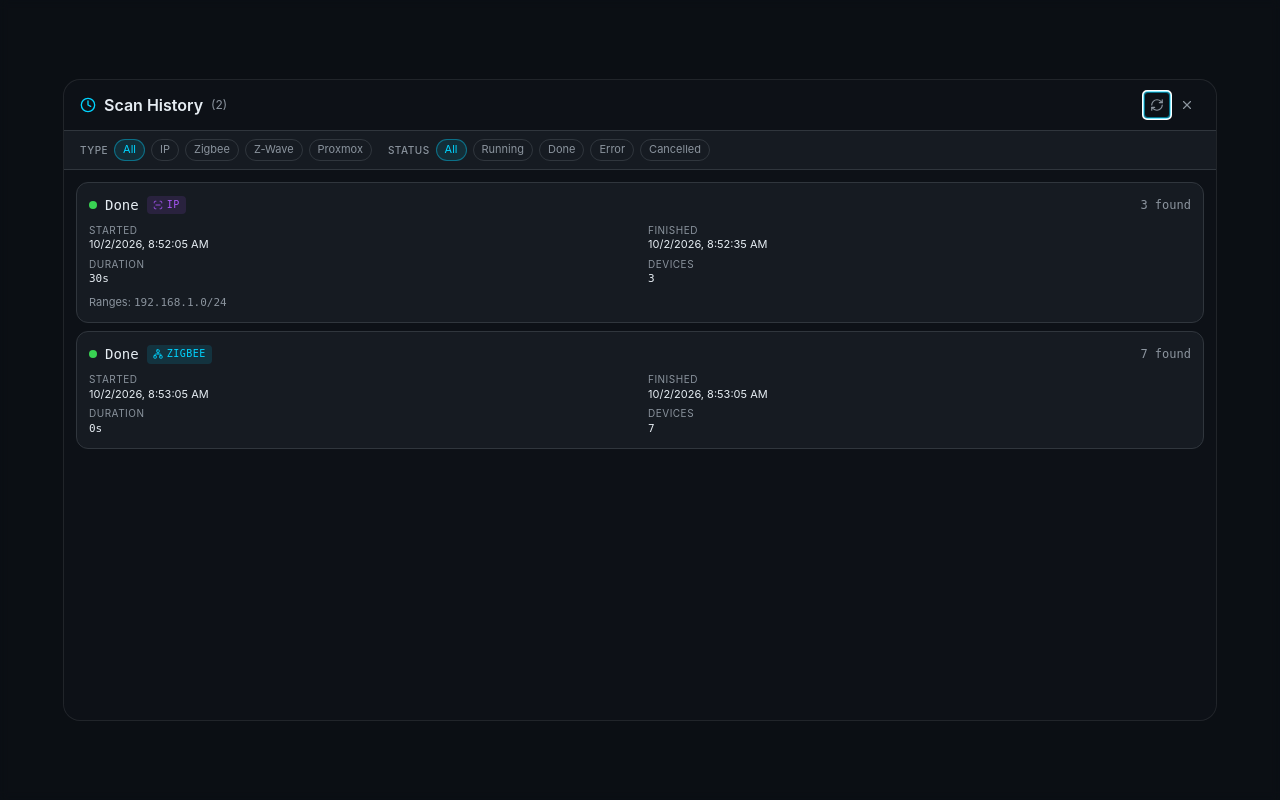
Test: ScanHistoryModal › filters by kind
Expected: the text "done" is shown 2 times, [105,195,139,215]; [105,344,139,364]
Click the button "Zigbee".
click(212, 150)  # box [185,139,239,161]
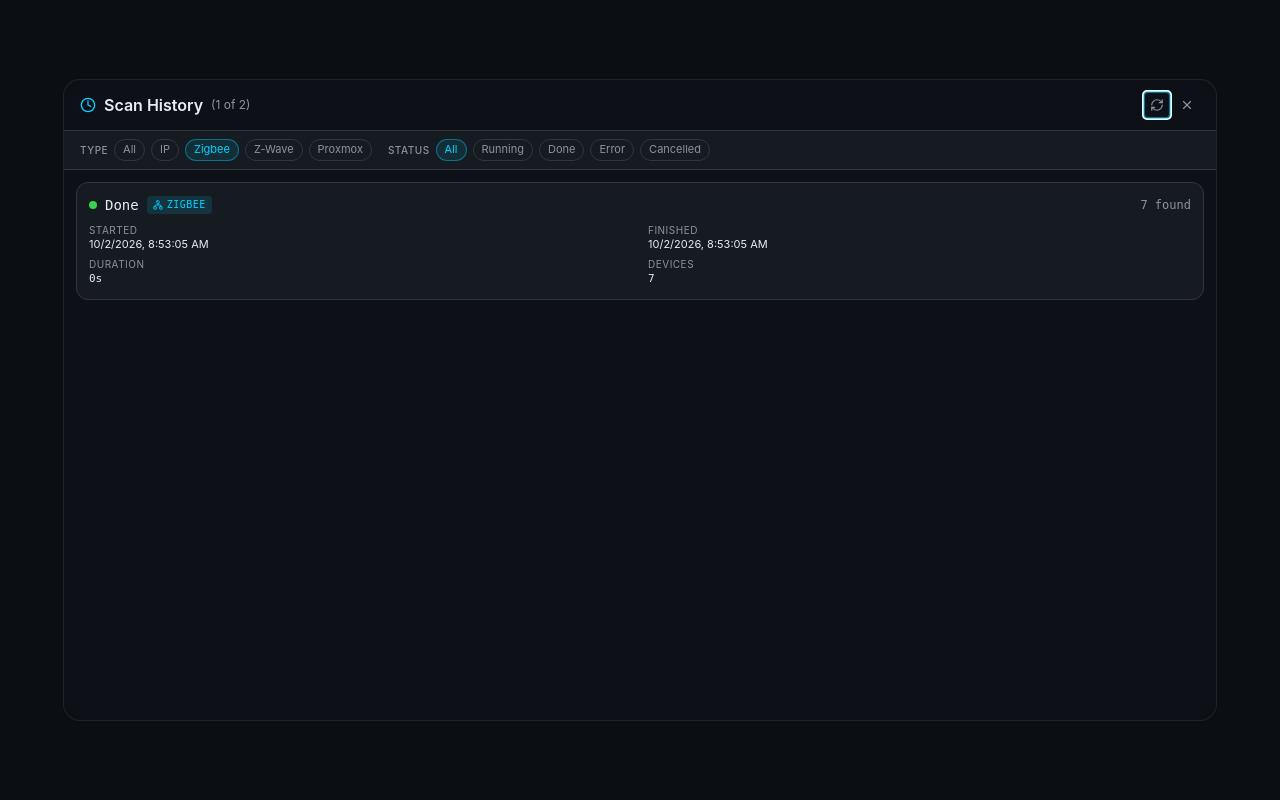
Expected: the text "7 found" is shown, [1140,197,1191,213]
Expected: the text "3 found" is gone
